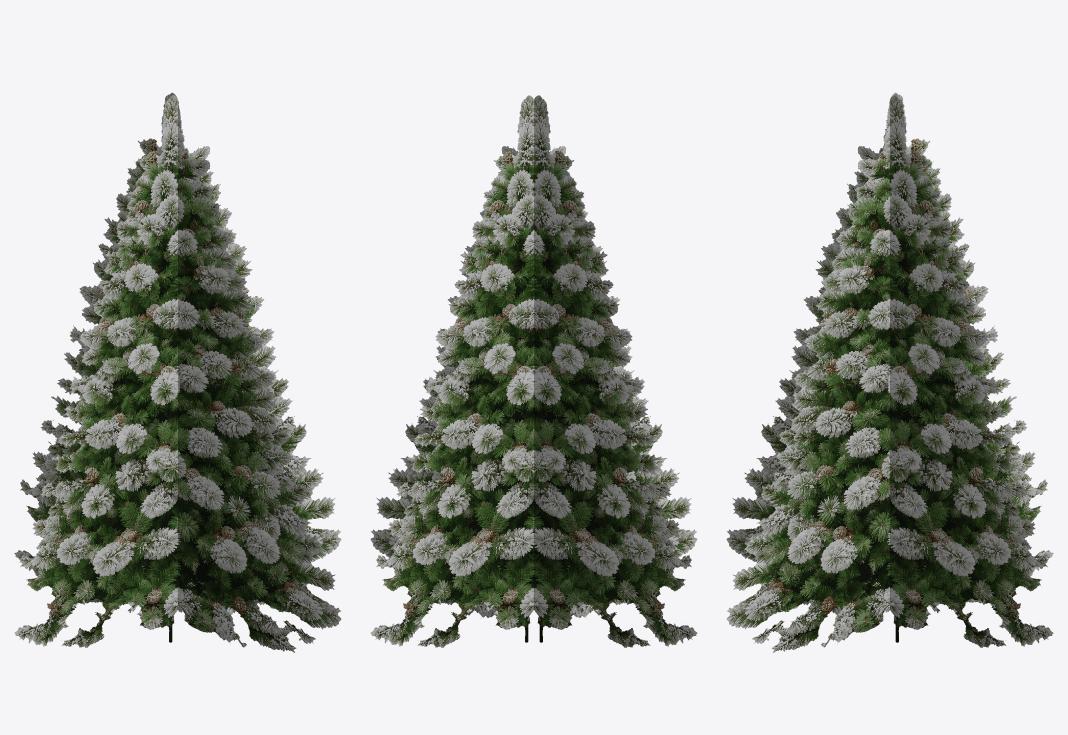
Rendered from 01-pinheiro-nevado-pinhas-2-10m.glb.
3 views of the same model, side by side, from view 1: azimuth 30°, elevation 25°; view 2: azimuth 150°, elevation 25°; view 3: azimuth 270°, elevation 25° (orthographic).
Parts seen in each view (by area): view 1: 01-pinheiro-nevado-pinhas-2,1m; view 2: 01-pinheiro-nevado-pinhas-2,1m; view 3: 01-pinheiro-nevado-pinhas-2,1m.
Boxes of the visible parts, bbox=[...] form: 01-pinheiro-nevado-pinhas-2,1m: bbox=[14, 92, 341, 652]; 01-pinheiro-nevado-pinhas-2,1m: bbox=[370, 95, 697, 647]; 01-pinheiro-nevado-pinhas-2,1m: bbox=[726, 92, 1053, 652].
Size of the model in its own units: 1.32 by 2.1 by 1.14.
1 material, 1 textured.
